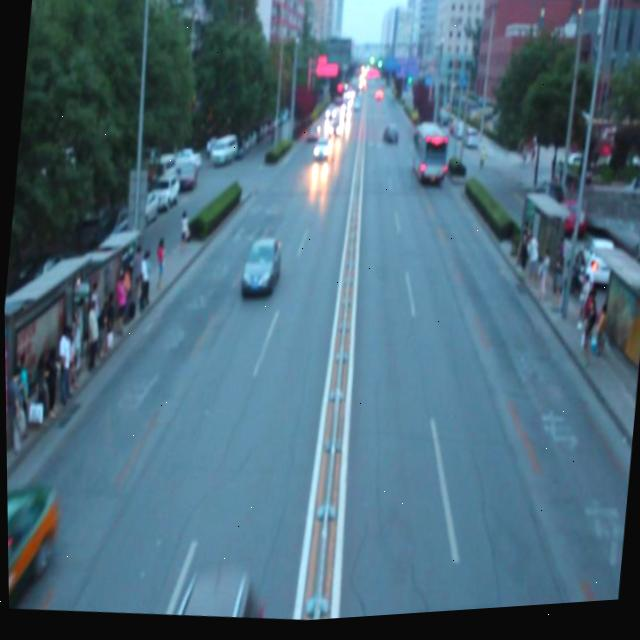car: (6, 480, 55, 611), (239, 233, 281, 294), (311, 140, 329, 163), (382, 126, 399, 147), (306, 125, 320, 142)
van: (408, 127, 449, 186)
